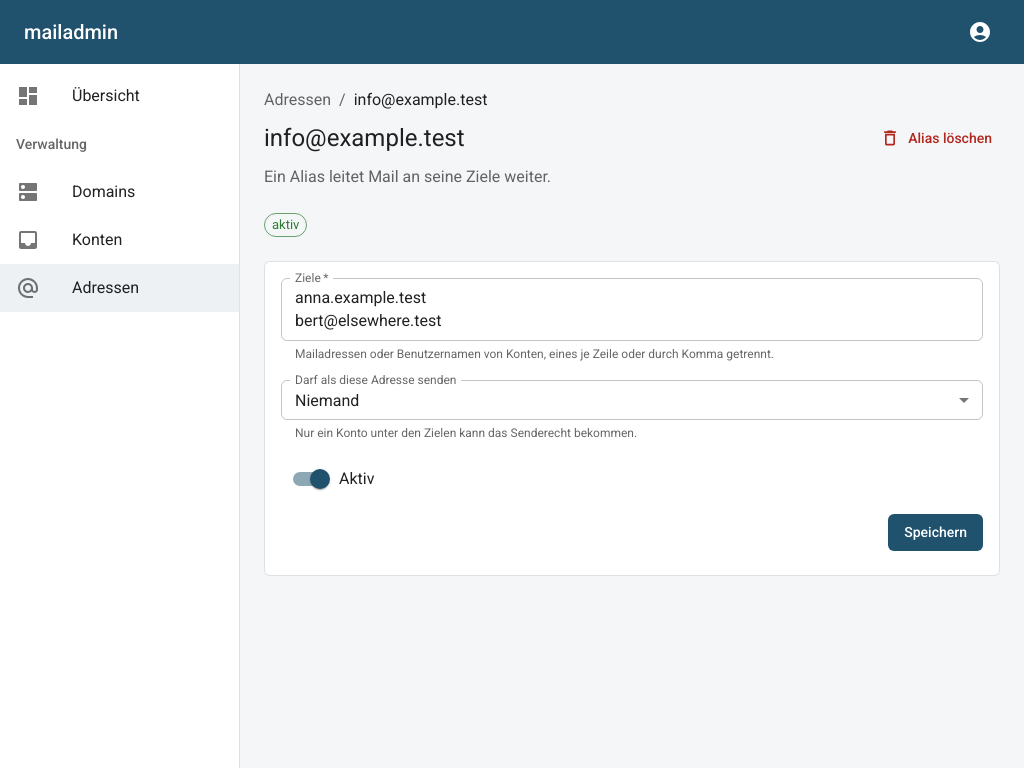
the alias page (A3) › saves the destinations with the version it read
Replace the text in the text box labelled "Ziele *" with "anna.example.test" at [632, 309], box [295, 286, 969, 332]
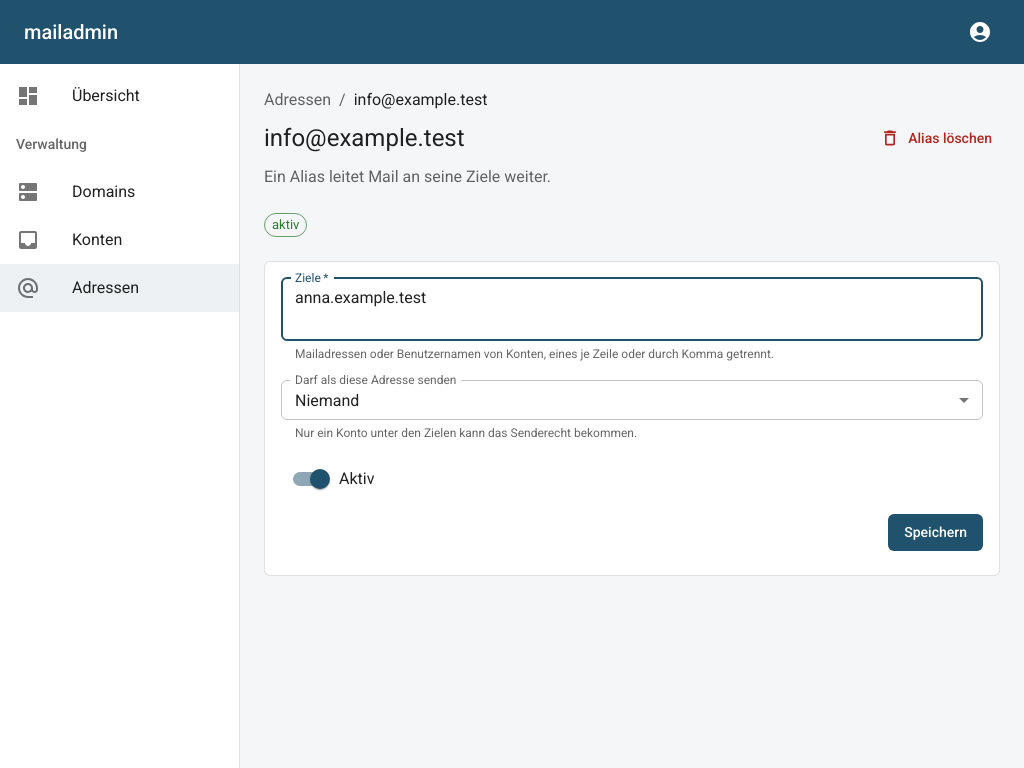
Click the button "Speichern".
click(936, 533)  # box [888, 514, 983, 551]
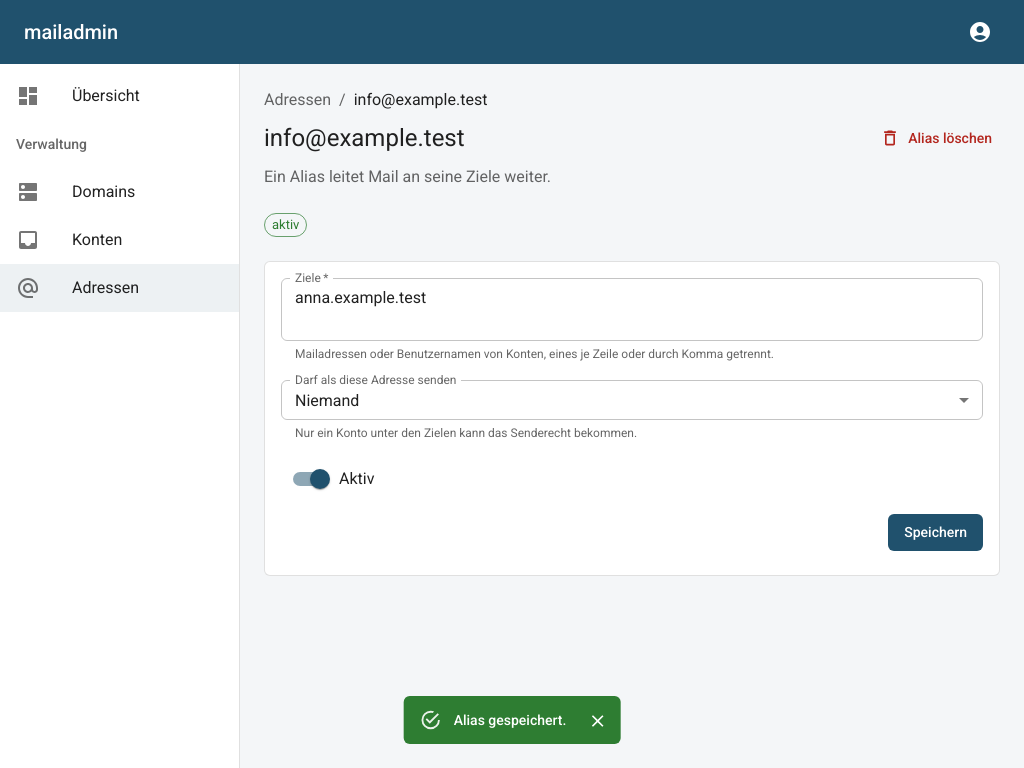
Result: the text "Alias gespeichert." is shown at [454, 712, 566, 728]
